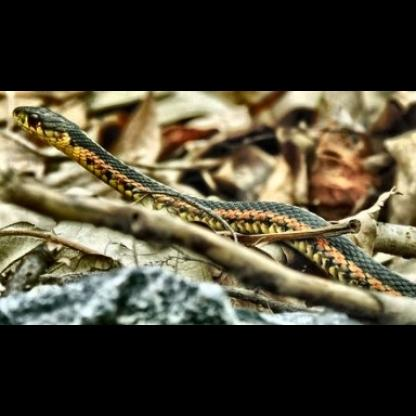Snake: (7, 97, 416, 302)
